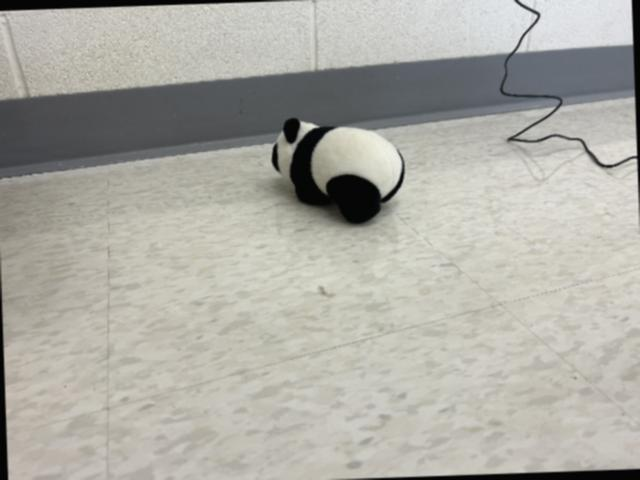panda_plushie: (270, 114, 408, 230)
